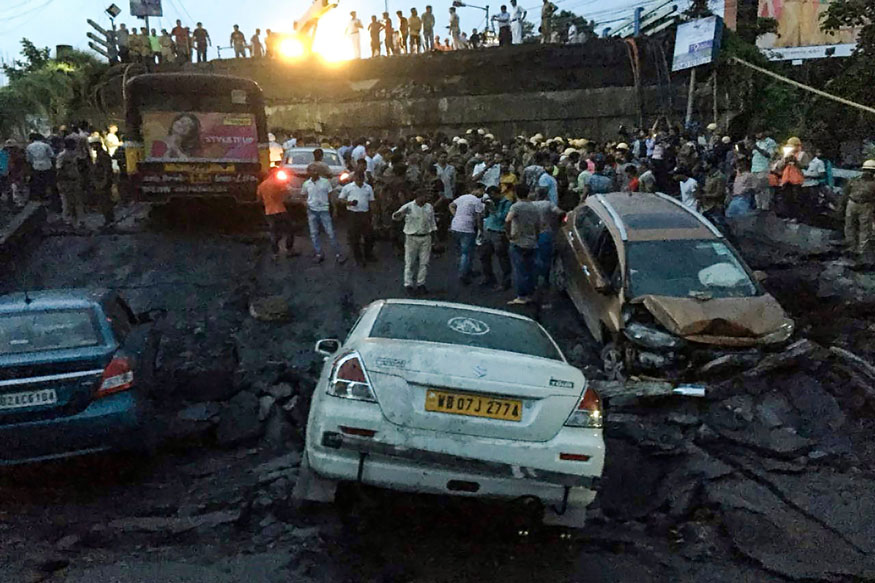pothole: (623, 369, 858, 558)
